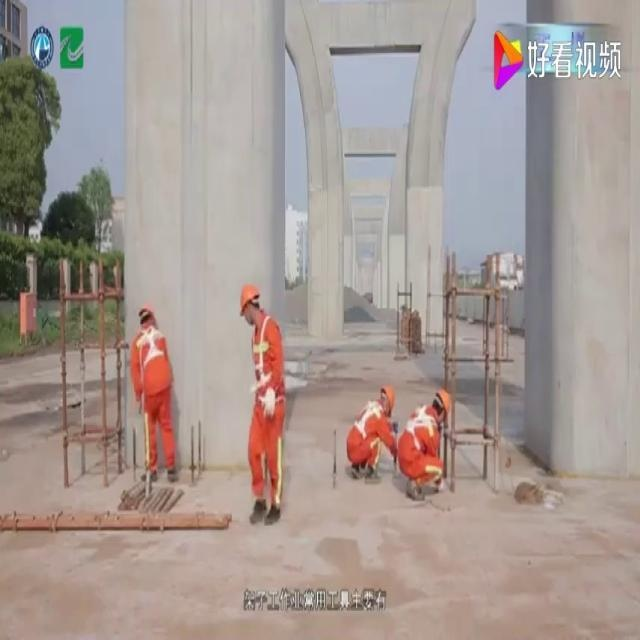Arnes_seguridad: (248, 311, 278, 392), (402, 399, 438, 452), (351, 396, 387, 441), (135, 323, 166, 372)
